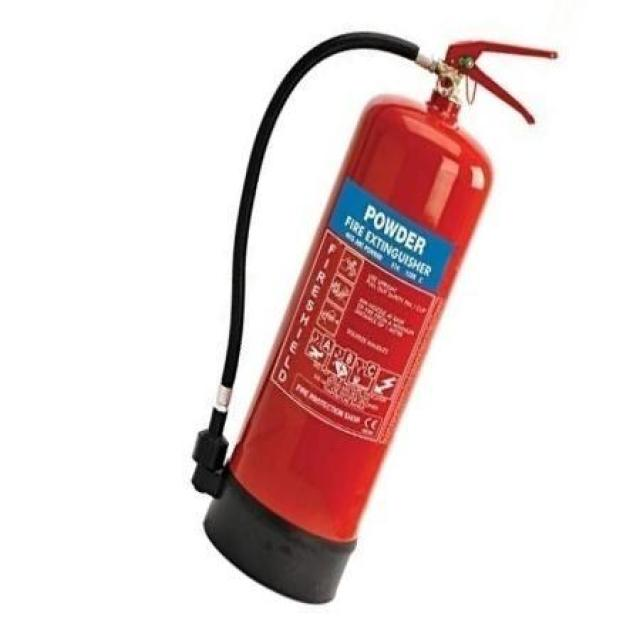fire_extinguisher: (178, 21, 564, 610)
